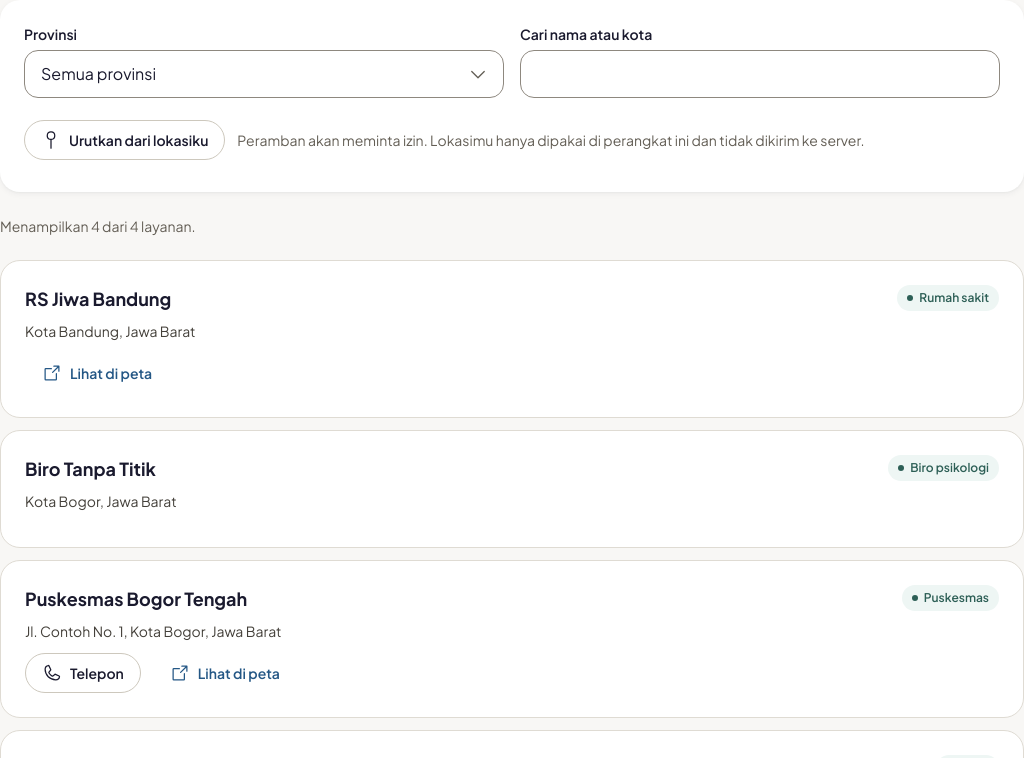
Test case: FacilityDirectory › menyaring menurut provinsi dan mengumumkan jumlah baru
Step 1. Select "Jawa Timur" in the dropdown labelled "Provinsi" → [264, 74], box [24,50,504,98]
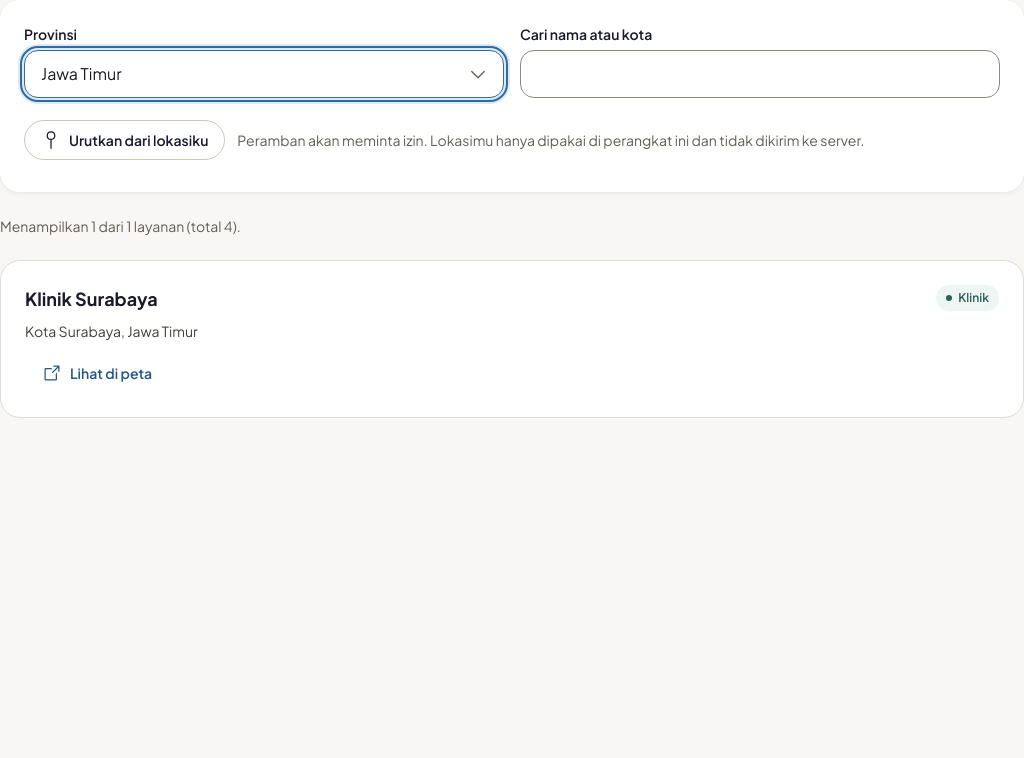
Result: the text "Menampilkan 1 dari 1 layanan (total 4)." is shown at [0,217,241,235]
